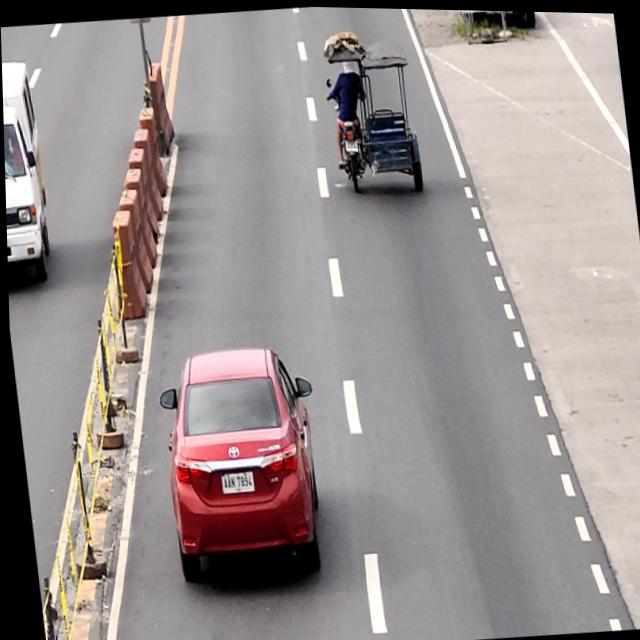Car: (150, 339, 329, 585)
License-Plate: (218, 471, 252, 493), (344, 137, 357, 151)
Tricycle: (322, 31, 424, 196)
